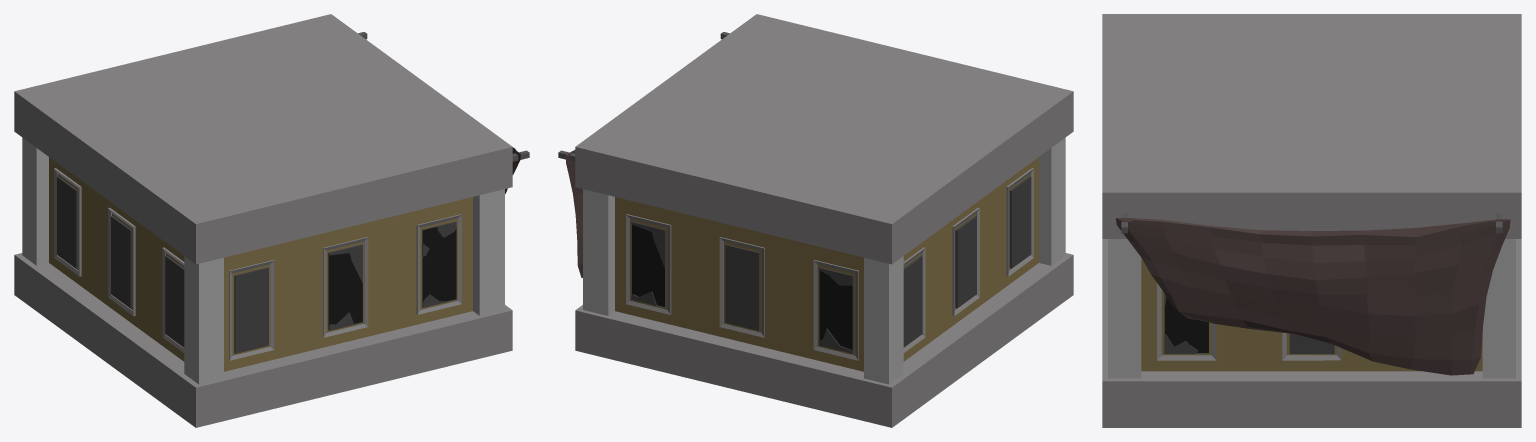
The picture shows the model from 3 angles, left to right: view 1: azimuth 30°, elevation 25°; view 2: azimuth 150°, elevation 25°; view 3: azimuth 270°, elevation 25°; orthographic projection. The views are drawn at different scales.
Parts seen in each view (by area): view 1: Cube.014, Cube.002, Cube.013, Cube.016, Cube.006, Cube.004, Cube.020, Cube.015, Cube.017, Cube.012, Cube.010, Cube.011; view 2: Cube.014, Cube.002, Cube.013, Cube.017, Cube.001, Cube.003, Cube.019, Cube.018, Cube.016, Cube.011, Cube.010, Cube.012 (+1 smaller); view 3: Cube.014, Cube.021, Cube.013, Cube.002, Cube.015, Cube.018, Cube.005, Cube.009.
Boxes of the visible parts, bbox=[...] form: Cube.014: bbox=[14, 14, 512, 264]; Cube.002: bbox=[49, 157, 472, 371]; Cube.013: bbox=[14, 253, 512, 427]; Cube.016: bbox=[184, 256, 223, 384]; Cube.006: bbox=[229, 260, 274, 360]; Cube.004: bbox=[323, 237, 368, 337]; Cube.020: bbox=[416, 214, 461, 314]; Cube.015: bbox=[473, 189, 504, 315]; Cube.017: bbox=[22, 137, 48, 265]; Cube.012: bbox=[54, 168, 81, 276]; Cube.010: bbox=[108, 207, 135, 316]; Cube.011: bbox=[162, 247, 184, 352]; Cube.014: bbox=[575, 14, 1073, 264]; Cube.002: bbox=[615, 157, 1038, 371]; Cube.013: bbox=[575, 253, 1073, 427]; Cube.017: bbox=[864, 256, 903, 384]; Cube.001: bbox=[813, 260, 858, 360]; Cube.003: bbox=[719, 237, 764, 337]; Cube.019: bbox=[626, 214, 671, 314]; Cube.018: bbox=[583, 189, 614, 315]; Cube.016: bbox=[1039, 137, 1065, 265]; Cube.011: bbox=[1006, 168, 1033, 276]; Cube.010: bbox=[952, 207, 979, 316]; Cube.012: bbox=[903, 247, 925, 352]; Cube.014: bbox=[1102, 14, 1521, 238]; Cube.021: bbox=[1115, 218, 1510, 375]; Cube.013: bbox=[1102, 239, 1521, 427]; Cube.002: bbox=[1141, 258, 1482, 371]; Cube.015: bbox=[1108, 239, 1141, 378]; Cube.018: bbox=[1482, 239, 1515, 378]; Cube.005: bbox=[1157, 283, 1216, 360]; Cube.009: bbox=[1282, 332, 1341, 360].
Size of the model in its own units: 14.33 by 8.16 by 13.17.
